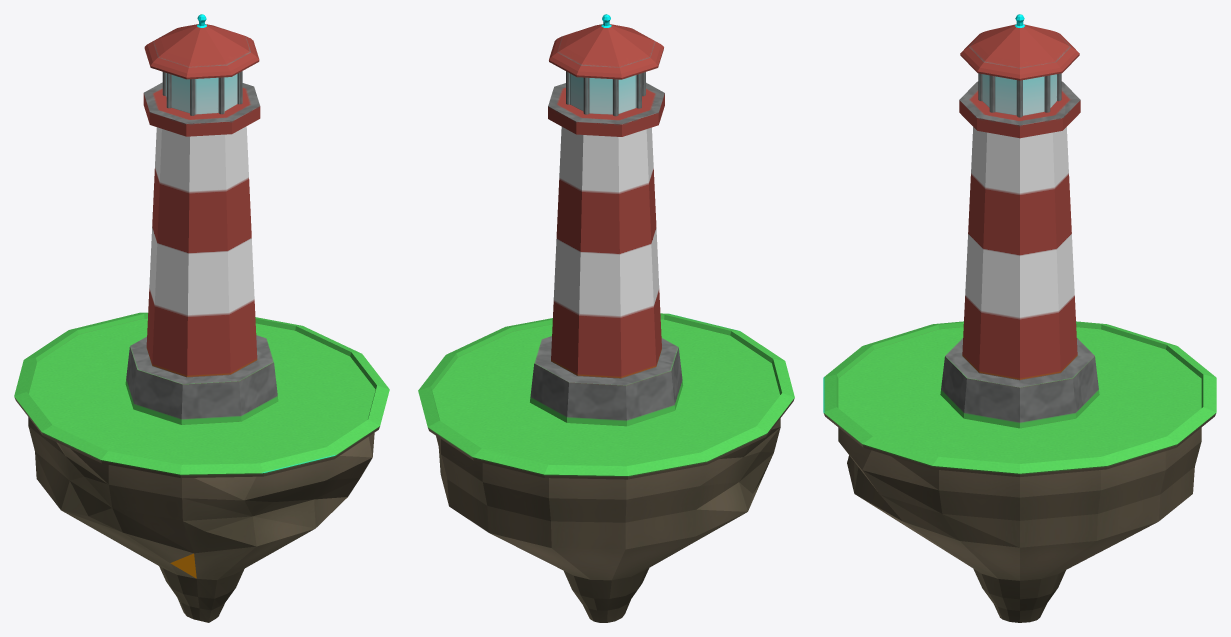
File: lighthouse_3.obj
3 views of the same model, side by side, from view 1: azimuth 30°, elevation 25°; view 2: azimuth 150°, elevation 25°; view 3: azimuth 270°, elevation 25° (orthographic).
Bounding box in the file's own units: 1290 × 2313 × 1363.
